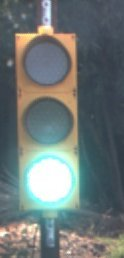Green: (10, 26, 92, 228)
